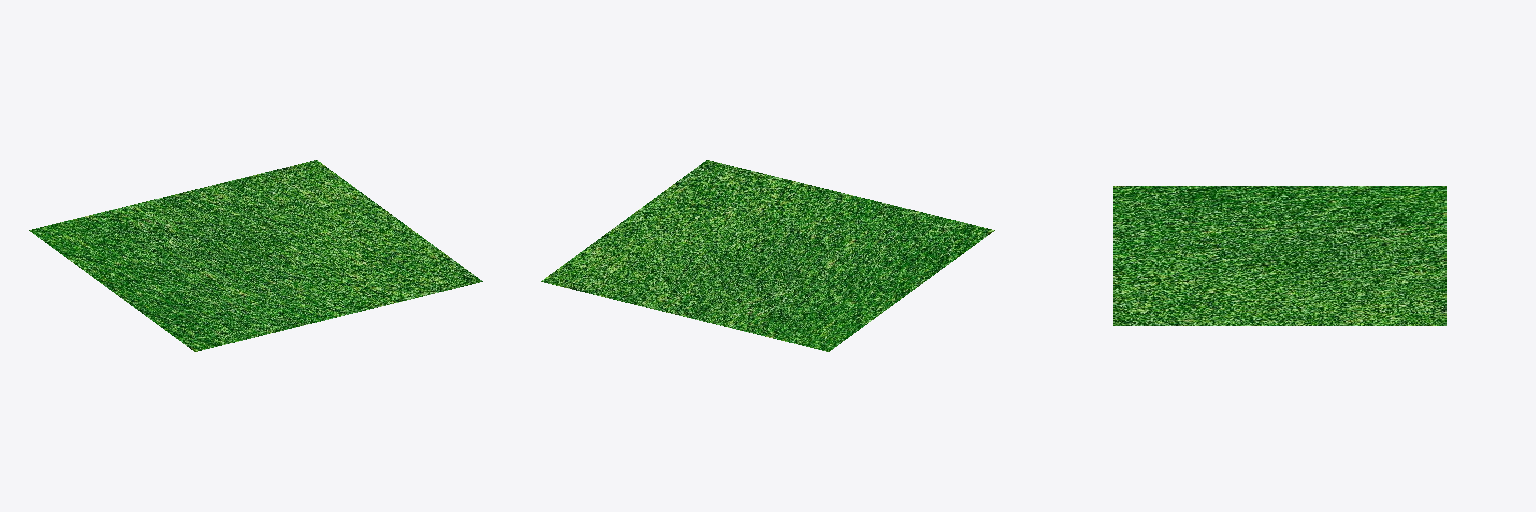
The picture shows the model from 3 angles: view 1: azimuth 30°, elevation 25°; view 2: azimuth 150°, elevation 25°; view 3: azimuth 270°, elevation 25°; orthographic projection.
Visible parts, largest first — view 1: Plane; view 2: Plane; view 3: Plane.
Part boxes in pixels (x1,y1,x2,y2): Plane: (29,160,482,351); Plane: (541,160,994,351); Plane: (1113,186,1446,325).
Size of the model in its own units: 5.95 by 0 by 5.95.
1 materials, 1 textured.